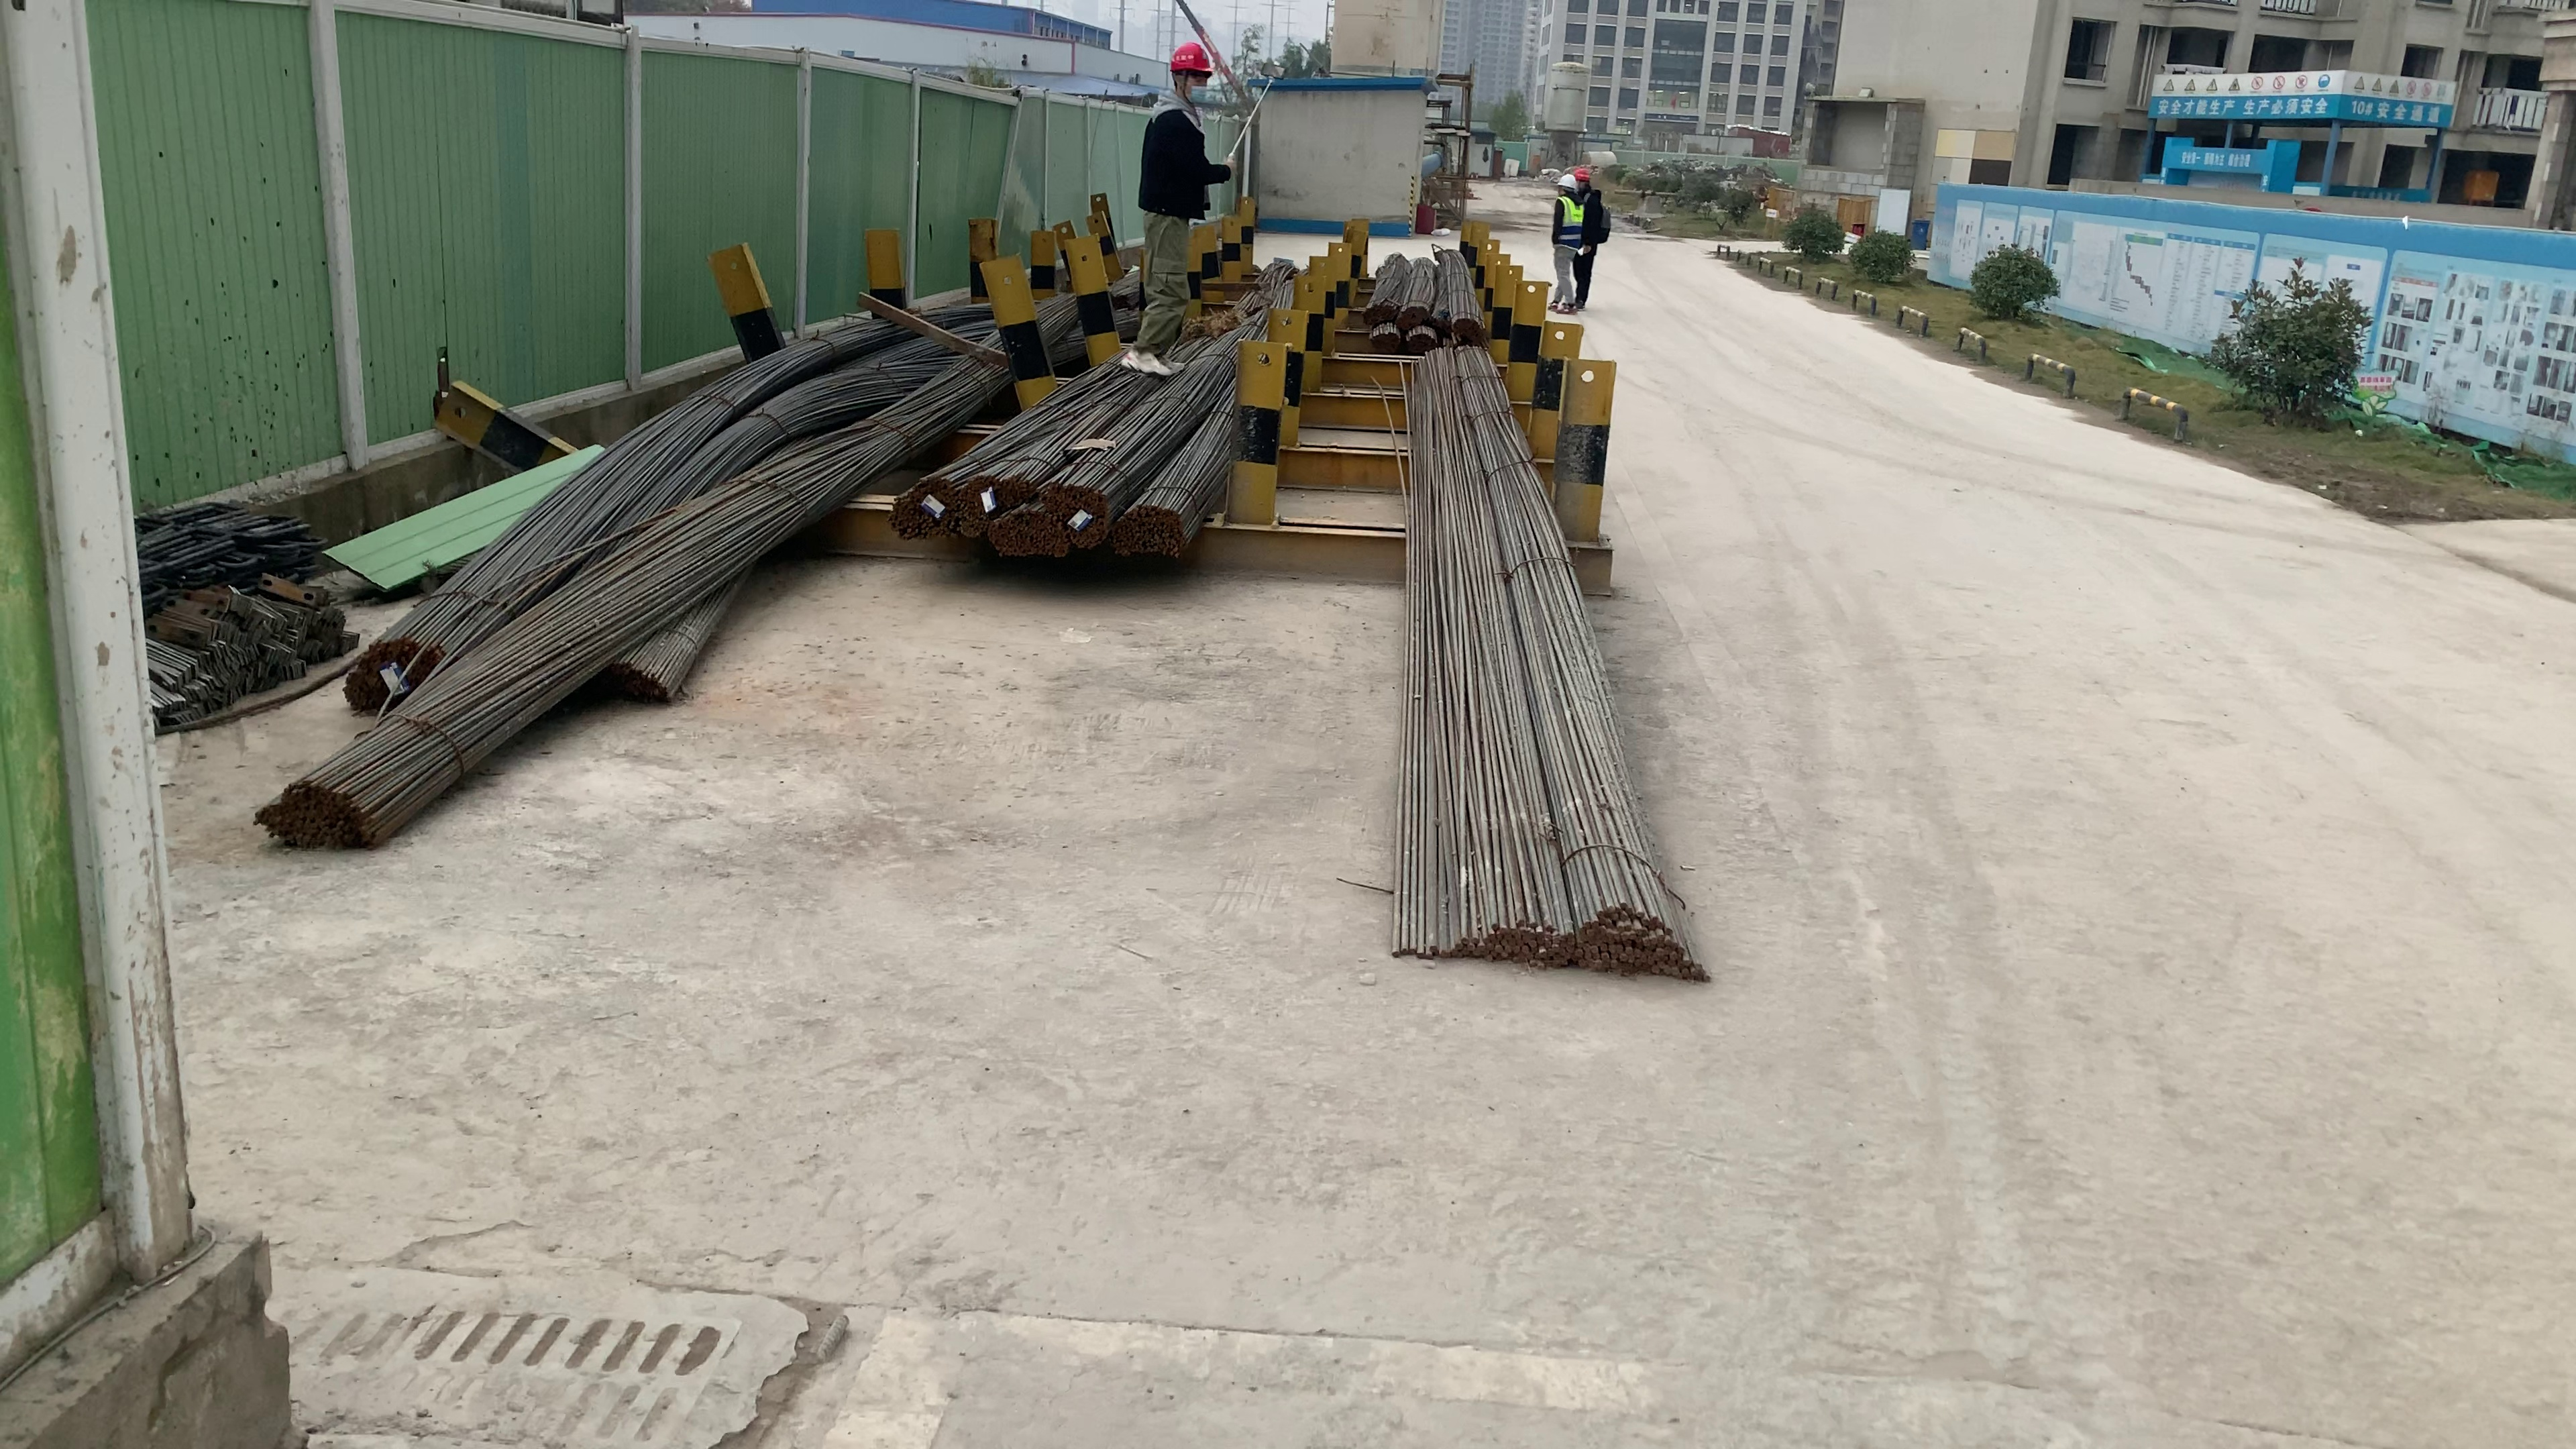rebar: (1389, 908, 1702, 980), (249, 782, 391, 849), (341, 637, 439, 718), (888, 485, 959, 538), (1049, 479, 1106, 545), (600, 658, 671, 706), (962, 474, 1030, 522), (1116, 508, 1184, 554), (1000, 518, 1070, 557), (1407, 331, 1438, 352), (1369, 299, 1398, 318), (1454, 317, 1481, 336), (1403, 308, 1431, 326), (1373, 327, 1398, 347)
